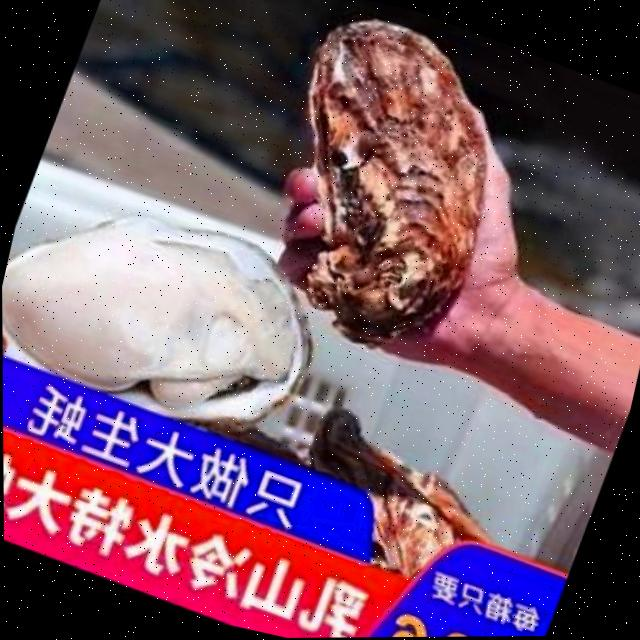Oyster-Closed: (253, 5, 522, 359), (288, 397, 511, 594)
Oyster-Open: (1, 182, 338, 446)
